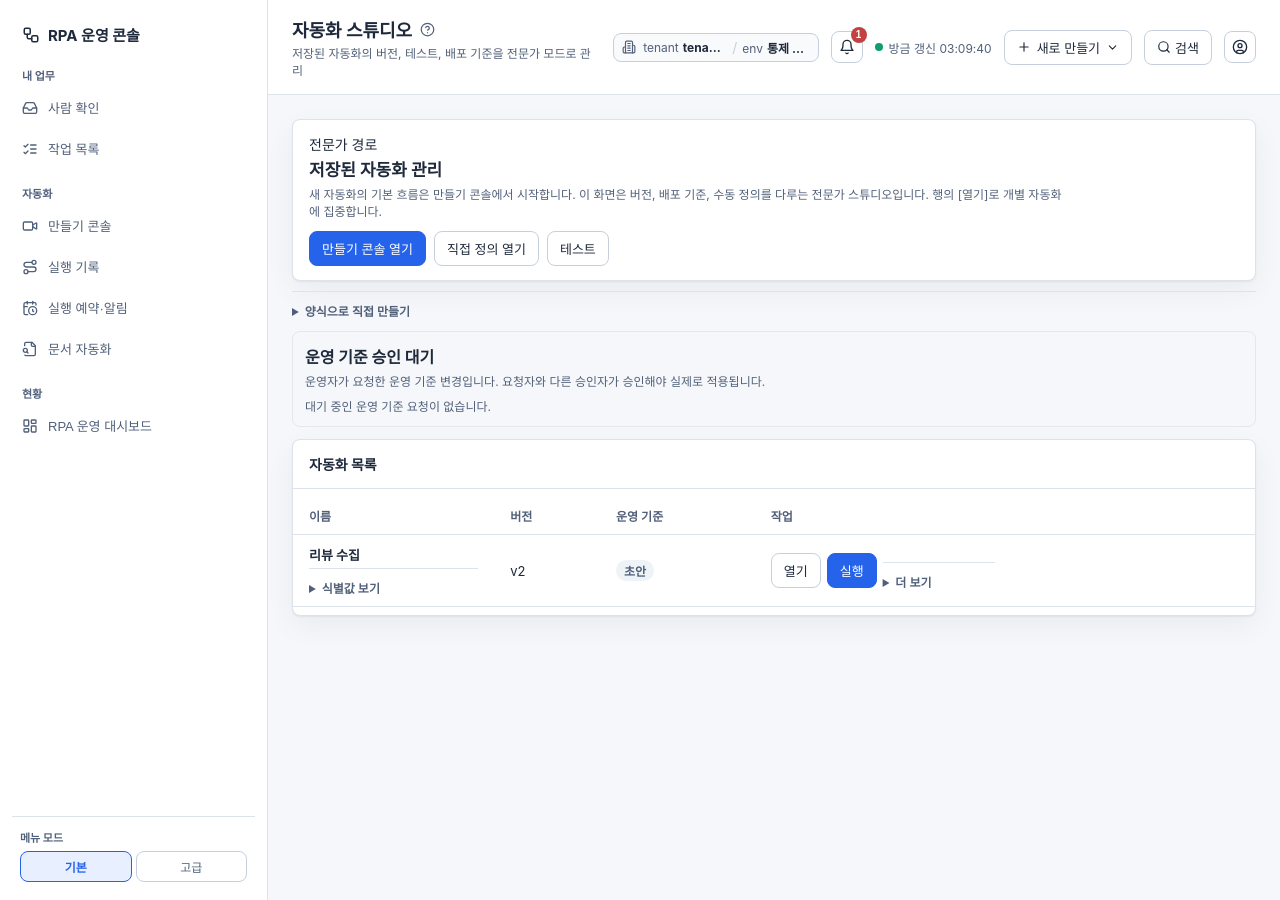
Test: 테스트 실행(Playground) — 계획 미리보기 + 실제 실행 시작 › 시나리오 목록의 '테스트 계획 보기'(더 보기)는 Studio 작업대 선택 딥링크로 이동한다
Click the heading "더 보기" at (913, 582), box [895, 574, 932, 590]
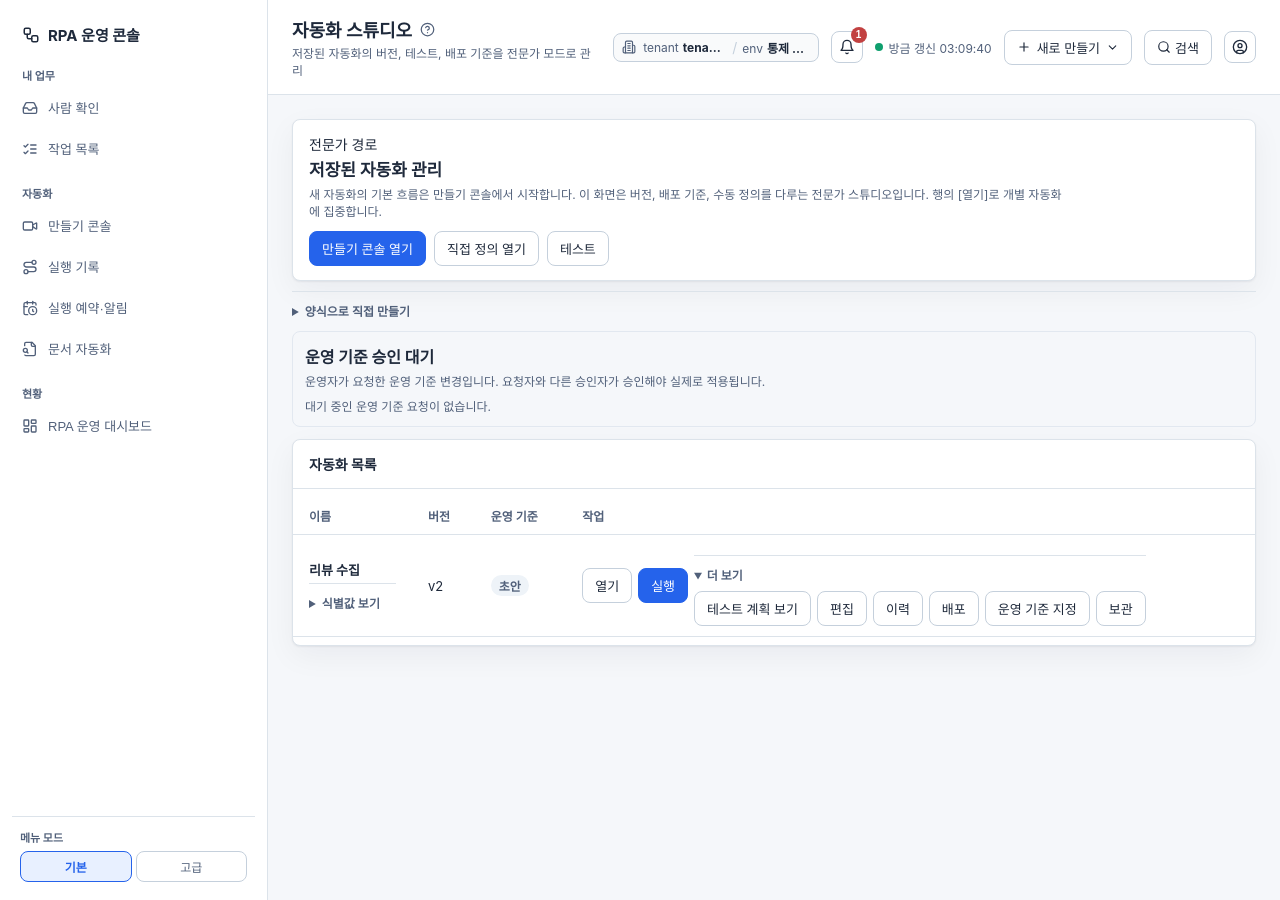
Click the button "테스트 계획 보기" at (753, 608), box [694, 591, 811, 626]
(page scrolled)
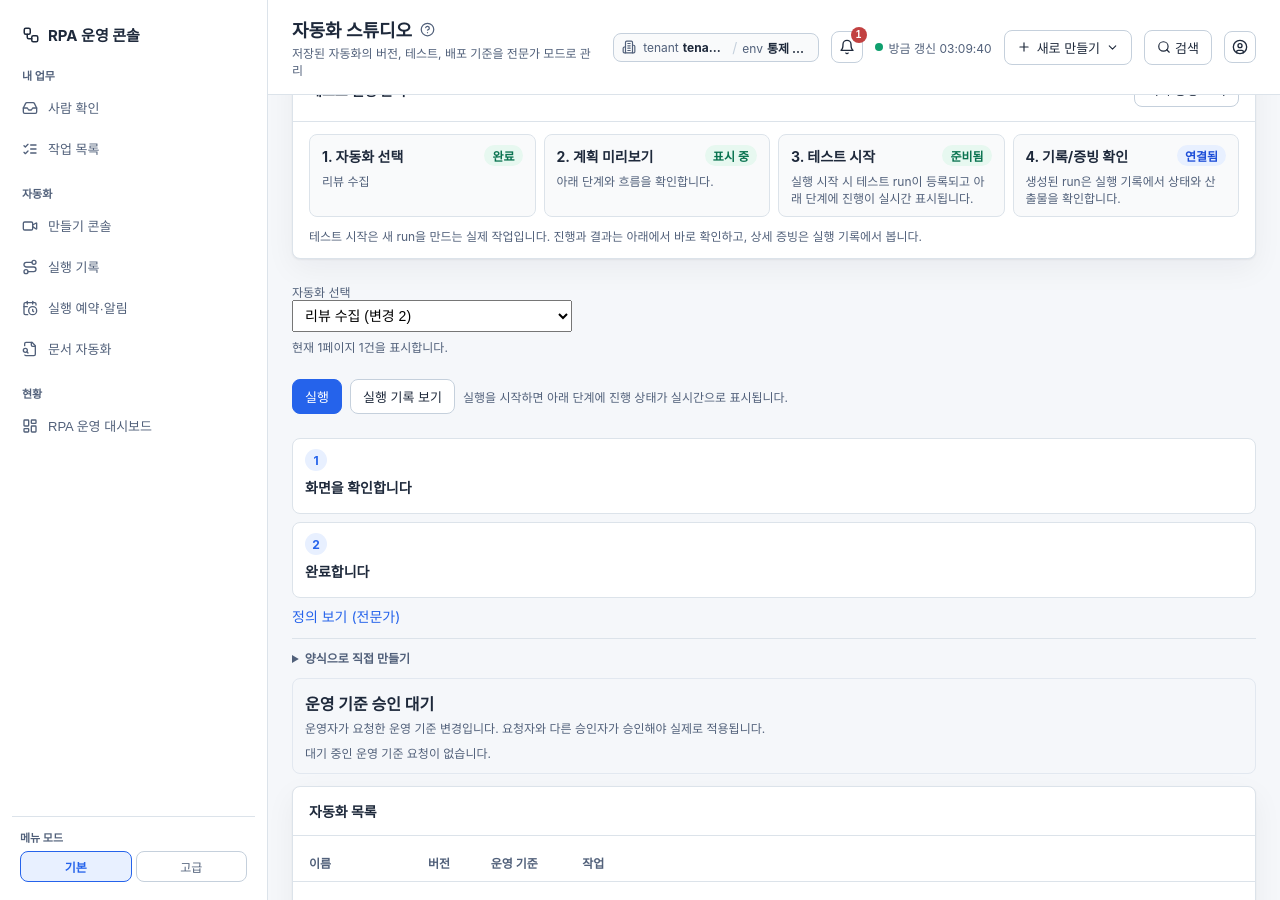
Now the dropdown shows "리뷰 수집 (변경 2)", box [292, 300, 572, 332]
